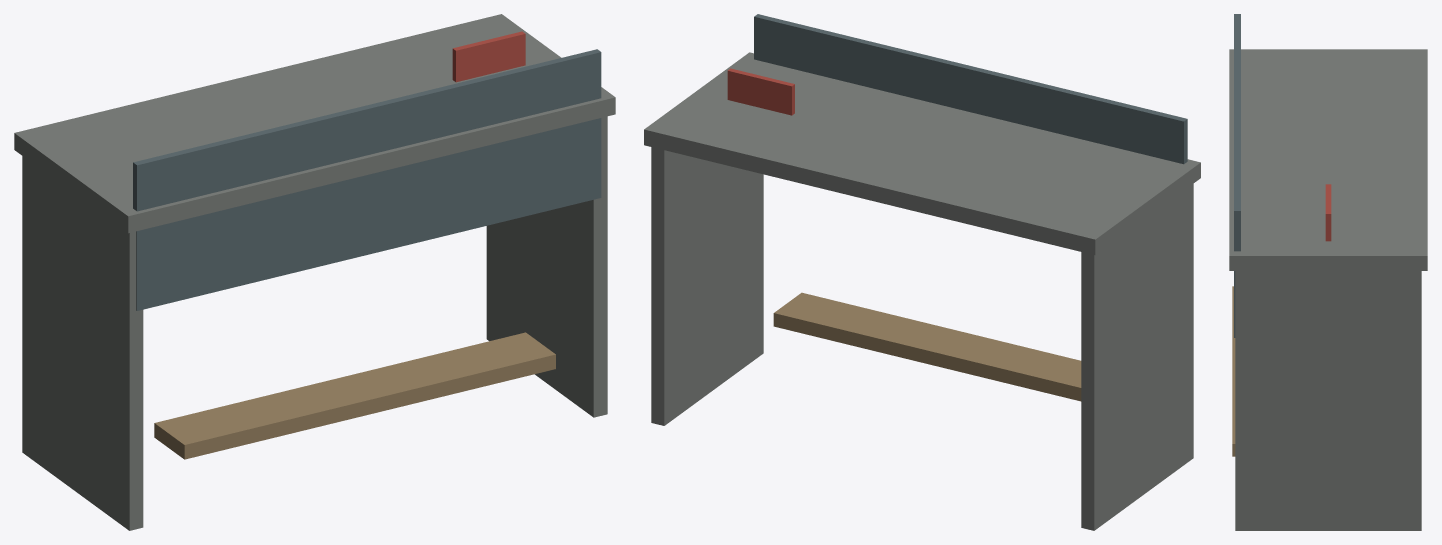
File: b_busstop.glb
The picture shows the model from 3 angles, left to right: view 1: azimuth 30°, elevation 25°; view 2: azimuth 150°, elevation 25°; view 3: azimuth 270°, elevation 25°; orthographic projection. The views are drawn at different scales.
Visible parts, largest first — view 1: body; view 2: body; view 3: body.
Boxes of the visible parts, box(x1,y1,x2,y2) form: body: box(14, 14, 615, 530); body: box(644, 14, 1200, 530); body: box(1229, 14, 1427, 530).
Size of the model in its own units: 4.2 by 3 by 1.7.
